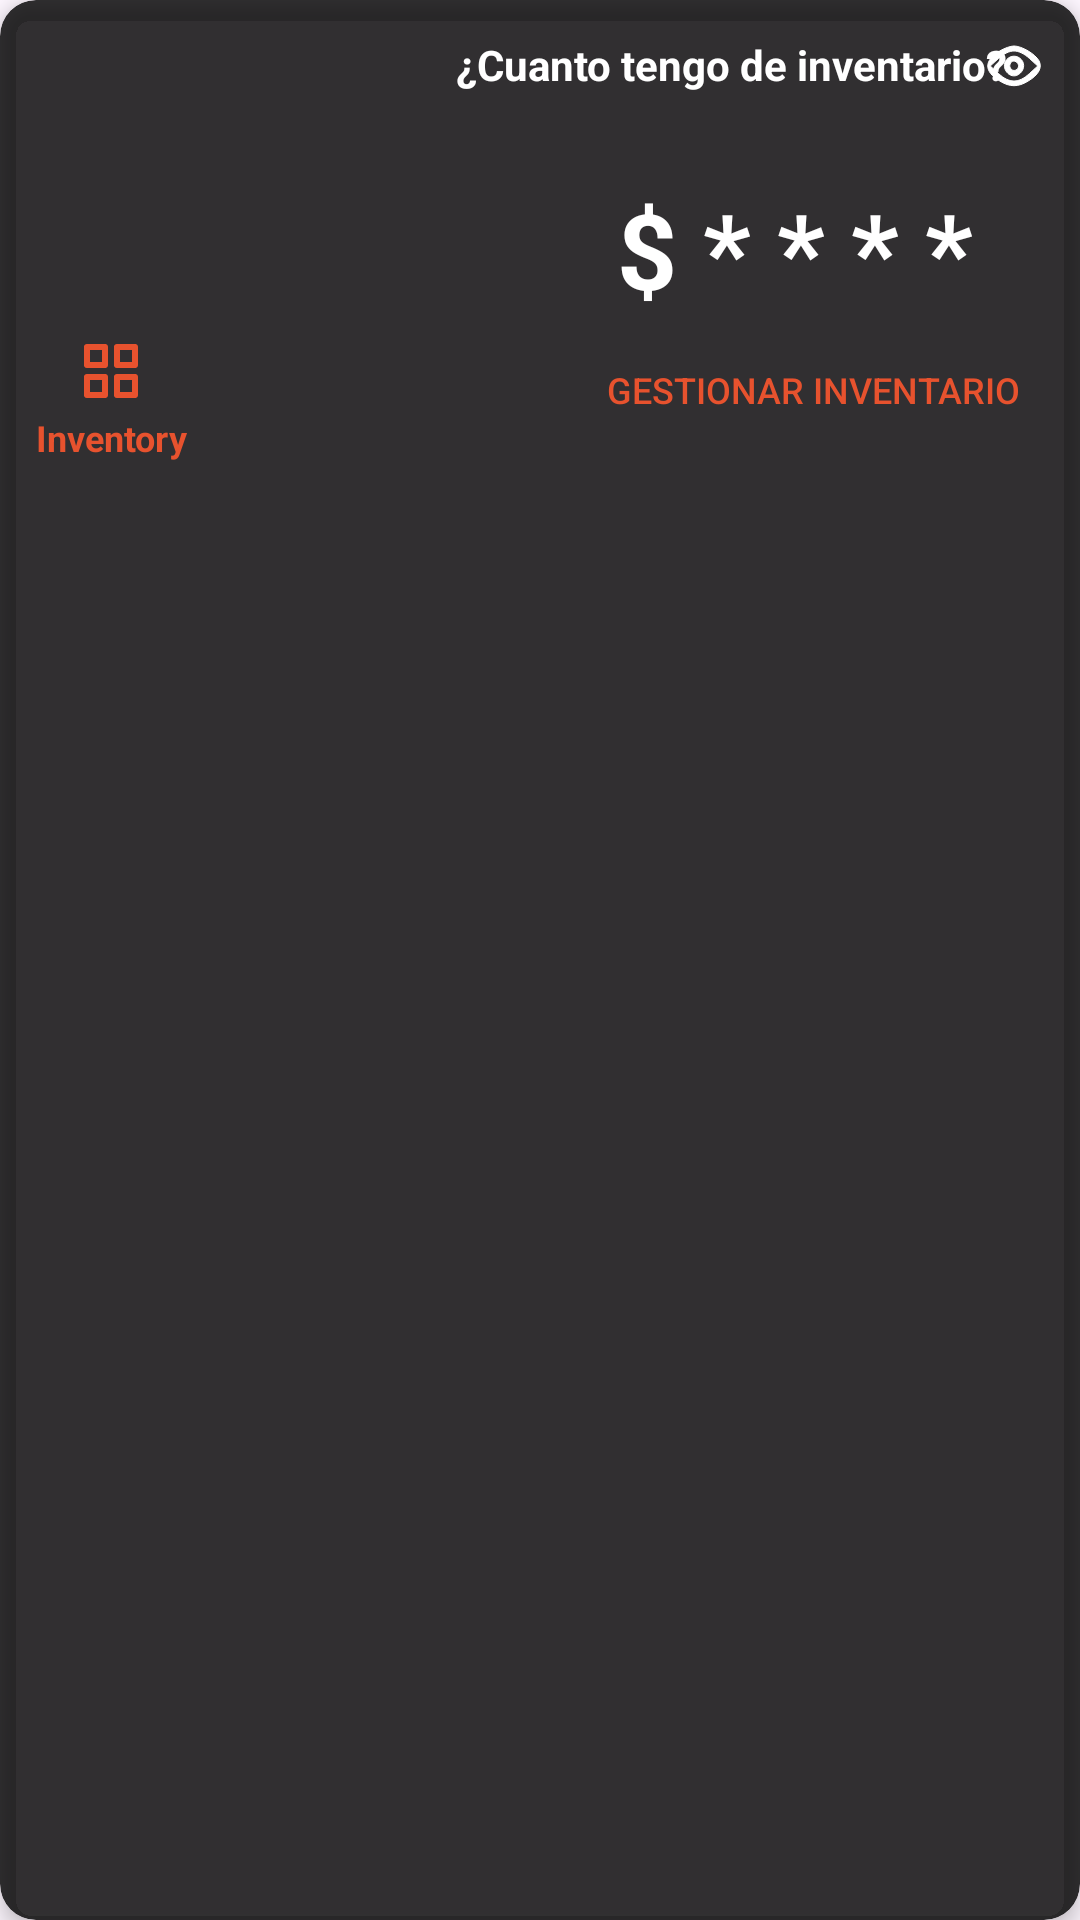

Named icons in this screenshot (1080×1920) and their centers, (x,y):
Mostrar u ocultar saldo del inventario: (1014,66)
